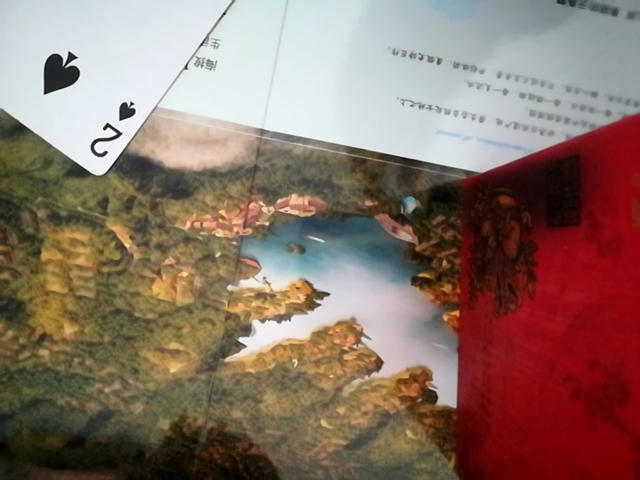ht 2: (1, 0, 279, 182)
